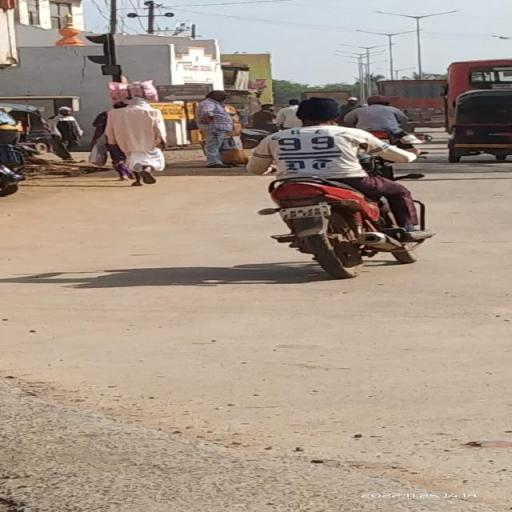bike: (240, 94, 444, 280)
withouthelmet: (298, 98, 336, 124)
